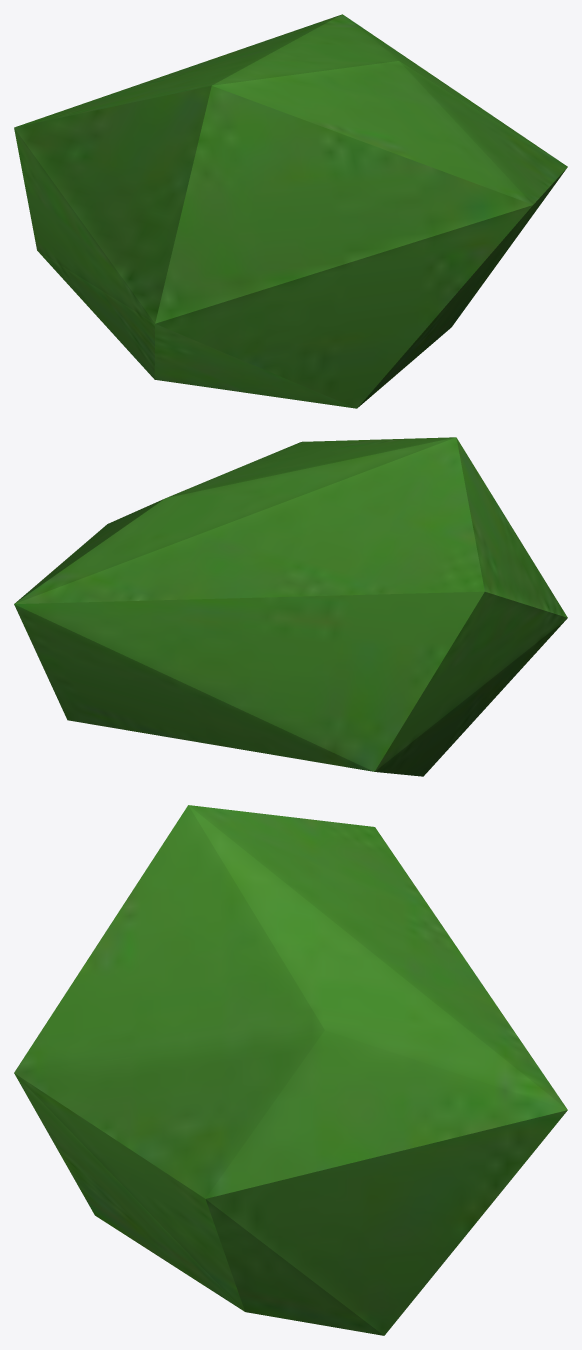
The model's file is uranium-235.glb.
The picture shows the model from 3 angles, top to bottom: view 1: azimuth 30°, elevation 25°; view 2: azimuth 150°, elevation 25°; view 3: azimuth 270°, elevation 25°; orthographic projection. The views are drawn at different scales.
Parts seen in each view (by area): view 1: uranium-235; view 2: uranium-235; view 3: uranium-235.
Part boxes in pixels (bbox=[...]): uranium-235: bbox=[14, 14, 567, 408]; uranium-235: bbox=[14, 437, 567, 776]; uranium-235: bbox=[14, 805, 567, 1335].
Size of the model in its own units: 0.2 by 0.13 by 0.18.
1 material, 1 textured.
